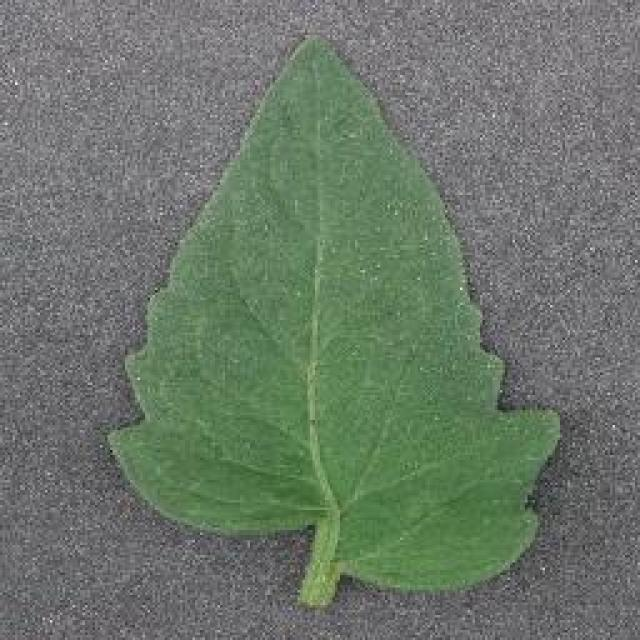Healthy: (85, 30, 573, 622)
